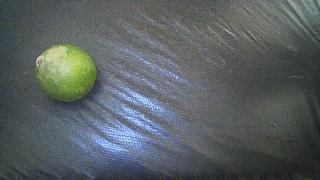DESECHO: (35, 44, 97, 102)
